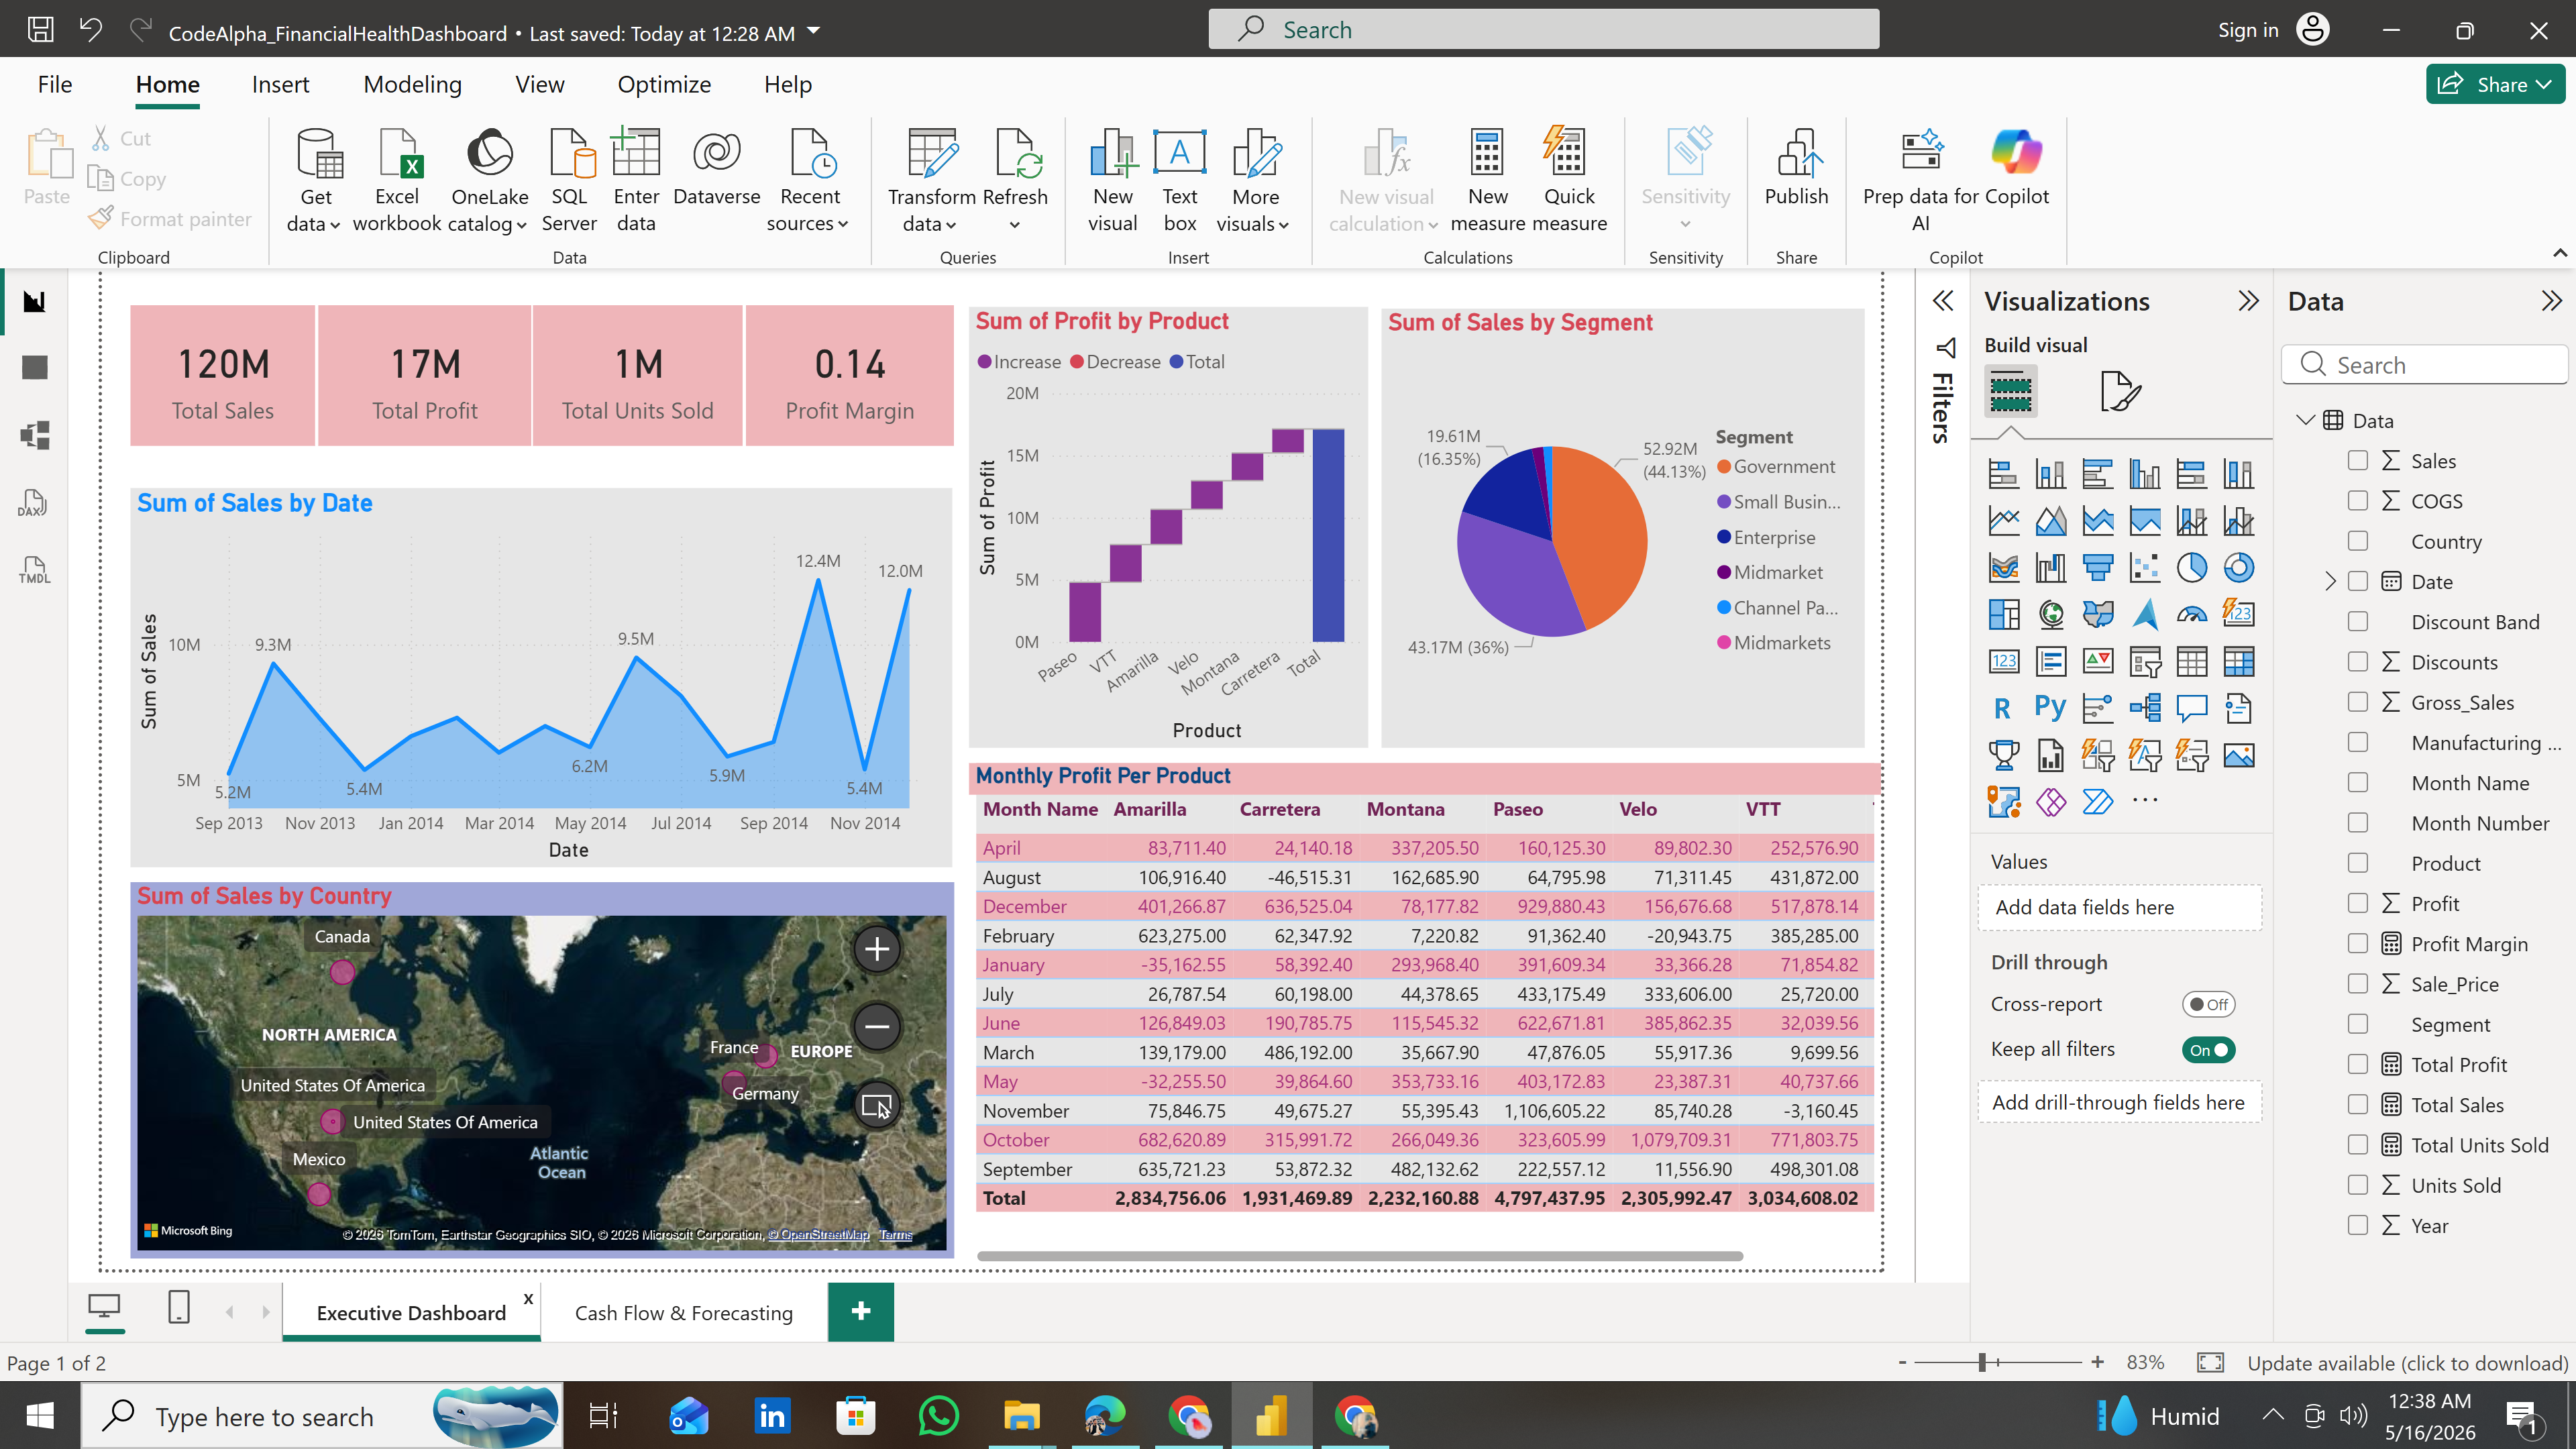

The dashboard page shown, as its layout file describes it:
{"tool":"powerbi","page":{"name":"Executive Dashboard","canvas":[1280,720],"ordinal":0},"visuals":[{"type":"card","fields":{"Values":["Data.Total Sales"]},"box":[20.5,26.5,132.7,101.3],"z":0},{"type":"card","fields":{"Values":["Data.Total Units Sold"]},"box":[310.1,26.5,150.8,101.3],"z":2},{"type":"card","fields":{"Values":["Data.Total Profit"]},"box":[155.6,26.5,153.2,101.3],"z":3},{"type":"card","fields":{"Values":["Data.Profit Margin"]},"box":[463.3,26.5,149.6,101.3],"z":4},{"type":"lineChart","fields":{"Category":["Data.Date"],"Y":["Sum(Data. Sales)"]},"box":[20.5,158,591.2,272.7],"z":5},{"type":"map","fields":{"Category":["Data.Country"],"Size":["Sum(Data. Sales)"]},"box":[20.5,441.6,592.4,270.2],"z":6},{"type":"waterfallChart","fields":{"Category":["Data.Product"],"Y":["Sum(Data.Profit)"]},"box":[623.7,27.7,287.1,317.3],"z":7},{"type":"pieChart","fields":{"Category":["Data.Segment"],"Y":["Sum(Data. Sales)"]},"box":[920.5,29,347.5,316.1],"z":8},{"type":"pivotTable","title":"Monthly Profit Per Product","fields":{"Rows":["Data.Month Name"],"Columns":["Data.Product"],"Values":["Sum(Data.Profit)"]},"box":[623.7,355.9,656.3,364.3],"z":9}]}

Visuals, with their boxes on the page's 1280x720 design canvas (x1, y1, x2, y2). These are canvas units, not pixel positions in the 2576x1449 screenshot, which may show the page scaled, cropped or inside an application window:
card - Data.Total Sales: crop(20, 26, 153, 128)
card - Data.Total Units Sold: crop(310, 26, 461, 128)
card - Data.Total Profit: crop(156, 26, 309, 128)
card - Data.Profit Margin: crop(463, 26, 613, 128)
lineChart - Data.Date x Sum(Data. Sales): crop(20, 158, 612, 431)
map - Data.Country x Sum(Data. Sales): crop(20, 442, 613, 712)
waterfallChart - Data.Product x Sum(Data.Profit): crop(624, 28, 911, 345)
pieChart - Data.Segment x Sum(Data. Sales): crop(920, 29, 1268, 345)
"Monthly Profit Per Product" pivotTable: crop(624, 356, 1280, 720)
